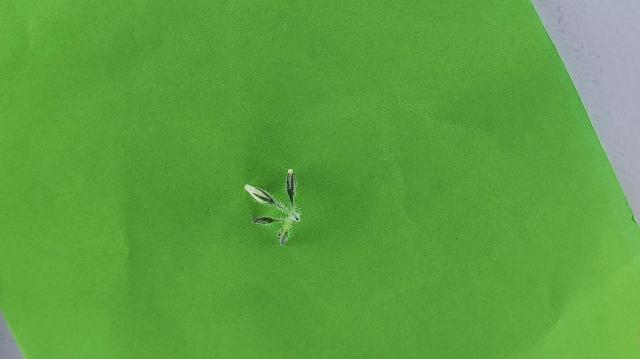Flower Bud: (244, 183, 275, 205), (286, 168, 297, 209), (251, 216, 281, 225)
